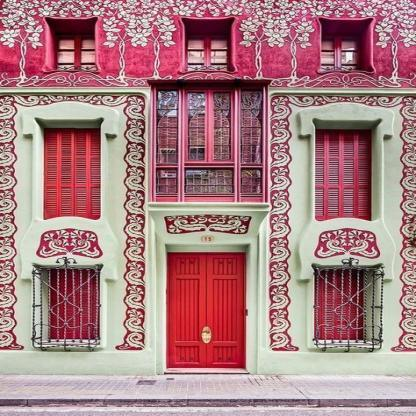Door: (166, 252, 246, 368)
Door Hole: (164, 244, 250, 374)
Floor: (1, 84, 415, 221), (1, 0, 415, 80)
Floor Slab: (1, 80, 415, 84), (1, 221, 415, 225)
Ground Floor: (1, 225, 415, 375)
Window: (152, 84, 268, 203), (44, 128, 103, 220), (313, 129, 372, 221), (48, 269, 100, 339), (314, 269, 364, 339), (321, 35, 363, 72), (186, 35, 228, 72), (55, 35, 97, 72)
Window Hole: (33, 117, 104, 221), (312, 118, 383, 222), (31, 262, 104, 346), (311, 262, 384, 346), (319, 18, 374, 73), (181, 17, 235, 72), (44, 16, 98, 71)
